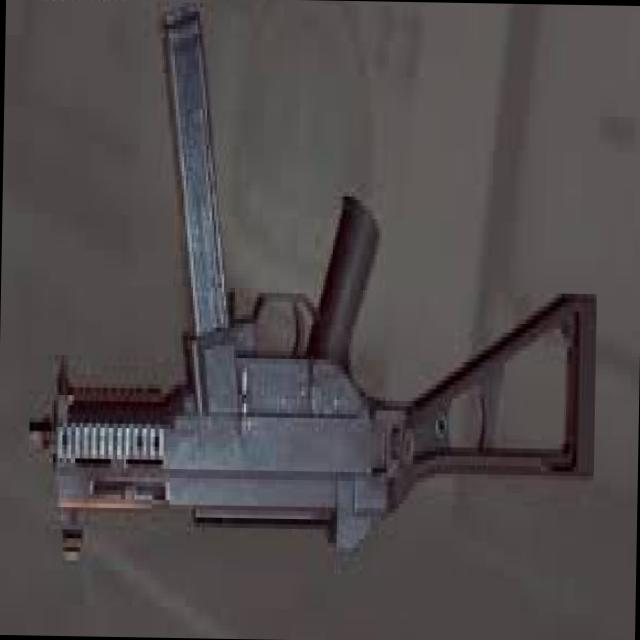Gun: (0, 0, 623, 605)
